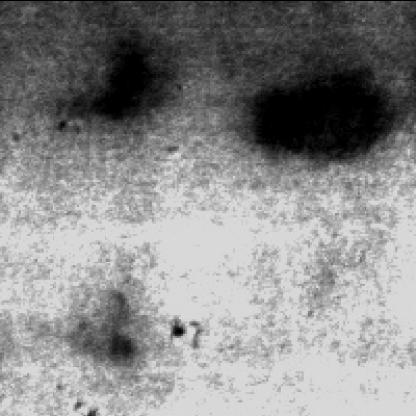patches: (244, 66, 398, 158), (81, 35, 167, 116)
